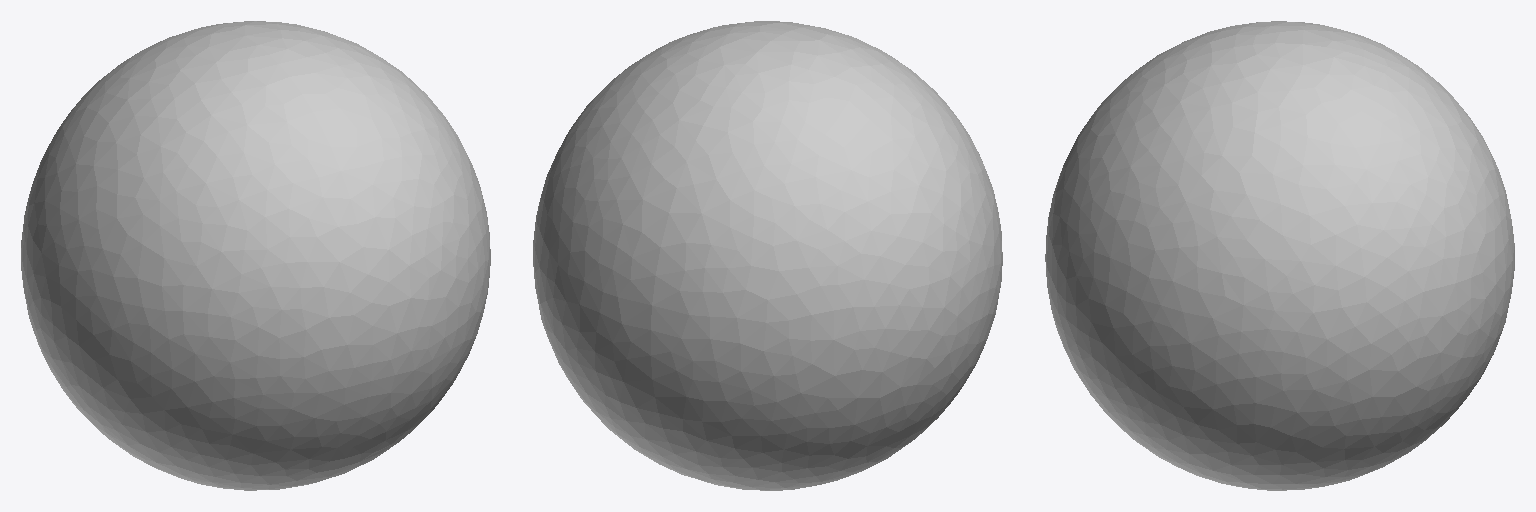
Rendered from PolySphere.OBJ.
The picture shows the model from 3 angles: view 1: azimuth 30°, elevation 25°; view 2: azimuth 150°, elevation 25°; view 3: azimuth 270°, elevation 25°; orthographic projection.
Visible parts, largest first — view 1: Group37872; view 2: Group37872; view 3: Group37872.
Part boxes in pixels (bbox=[...]): Group37872: bbox=[21, 21, 490, 490]; Group37872: bbox=[533, 21, 1002, 490]; Group37872: bbox=[1045, 21, 1514, 490].
Size of the model in its own units: 1.3 by 1.29 by 1.29.